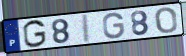8: (51, 18, 72, 44), (130, 10, 150, 37)
G: (21, 19, 47, 49), (102, 12, 126, 40)
I: (82, 13, 92, 45)
O: (154, 6, 179, 35)
